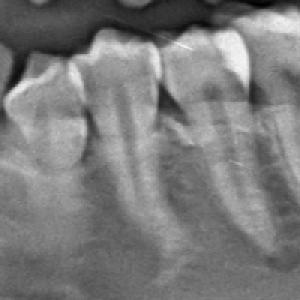tooth: (67, 25, 168, 213), (152, 25, 260, 198), (2, 47, 96, 174), (211, 6, 300, 139)
